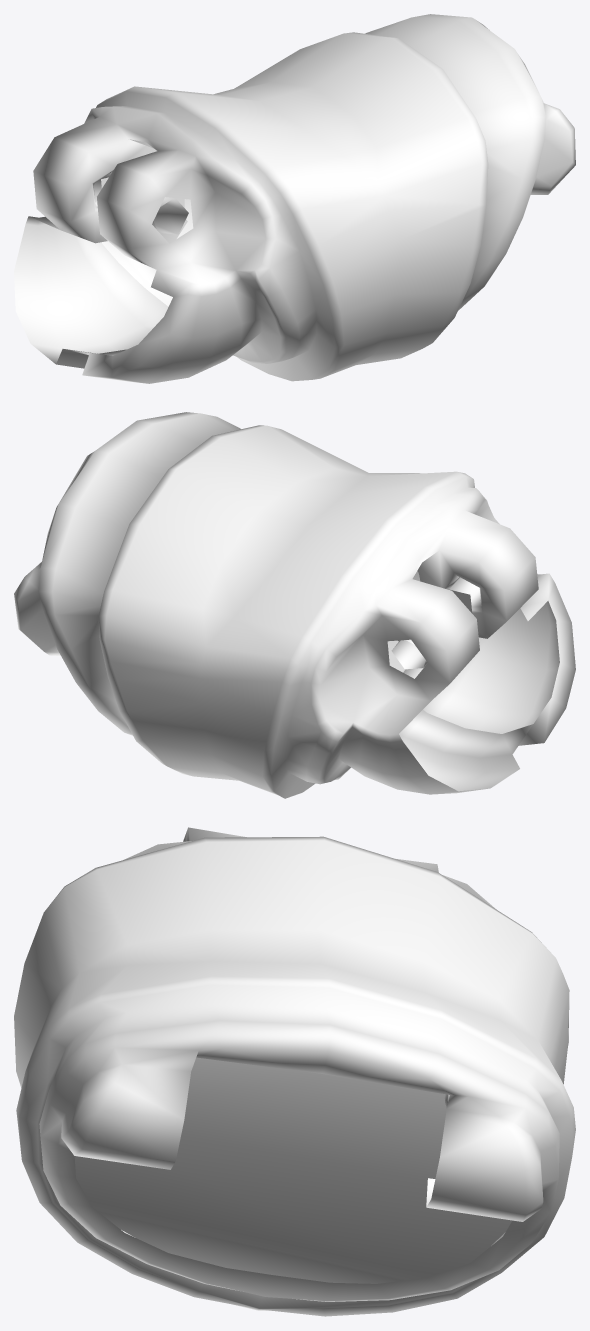
File: RFinger12.dae
3 views of the same model, one above another, from view 1: azimuth 30°, elevation 25°; view 2: azimuth 150°, elevation 25°; view 3: azimuth 270°, elevation 25° (orthographic). The views are drawn at different scales.
Visible parts, largest first — view 1: RFinger12; view 2: RFinger12; view 3: RFinger12.
Boxes of the visible parts, <box> form: RFinger12: <box>14,14,575,383</box>; RFinger12: <box>14,412,575,798</box>; RFinger12: <box>14,827,575,1316</box>.
Size of the model in its own units: 0.1938 by 0.16 by 0.1192.
Materials: 1 (1 with a texture image).
